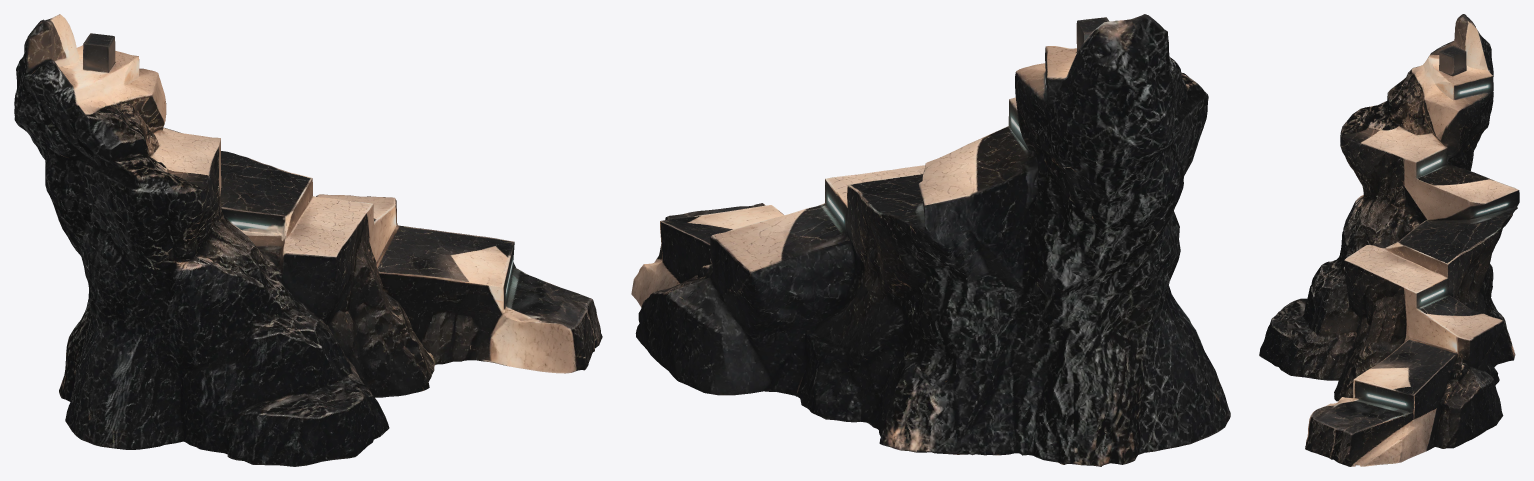
File: level-up.glb
3 renders of one model, left to right at view 1: azimuth 30°, elevation 25°; view 2: azimuth 150°, elevation 25°; view 3: azimuth 270°, elevation 25°, orthographic. The views are drawn at different scales.
Visible parts, largest first — view 1: Mesh0; view 2: Mesh0; view 3: Mesh0.
Part boxes in pixels (<box>): Mesh0: <box>14,14,602,466</box>; Mesh0: <box>631,14,1230,466</box>; Mesh0: <box>1259,14,1519,466</box>.
Size of the model in its own units: 1.9 by 1.36 by 1.15.
1 material, 1 textured.
